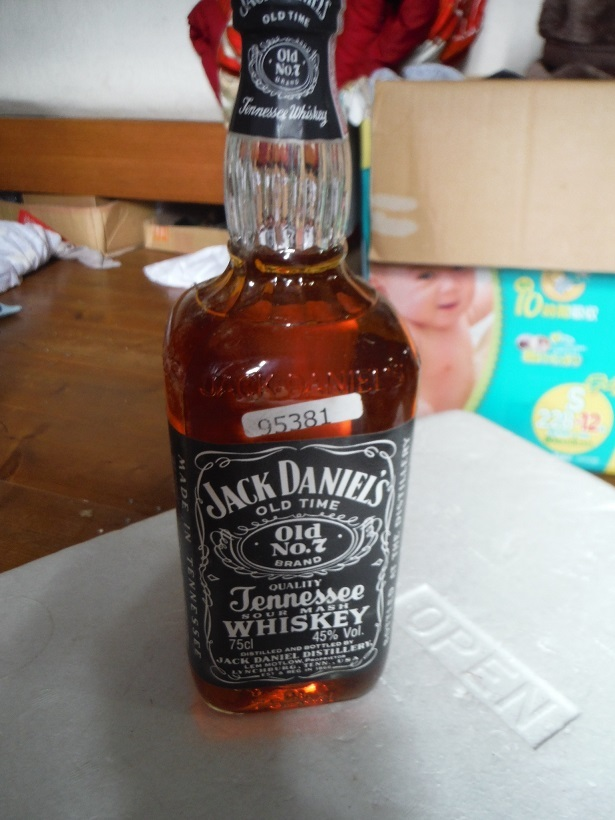Jack Daniel: (135, 2, 425, 723)
